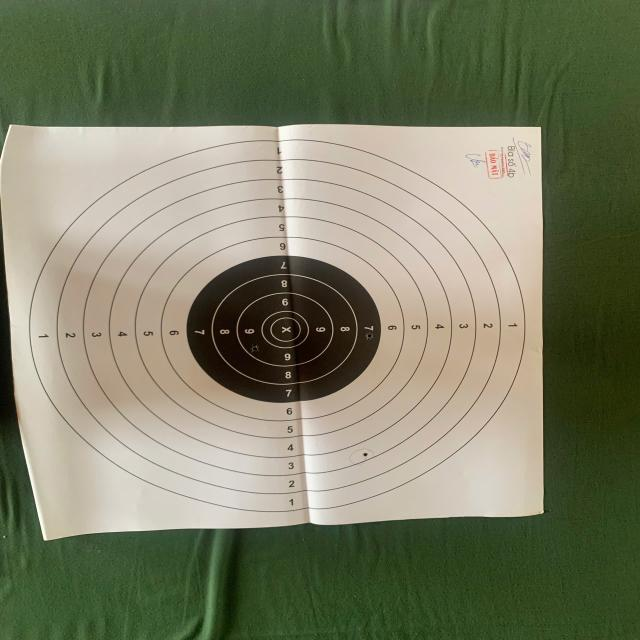bullet: (366, 332, 373, 339), (252, 345, 258, 352), (364, 452, 368, 456)
target: (16, 124, 544, 536)
